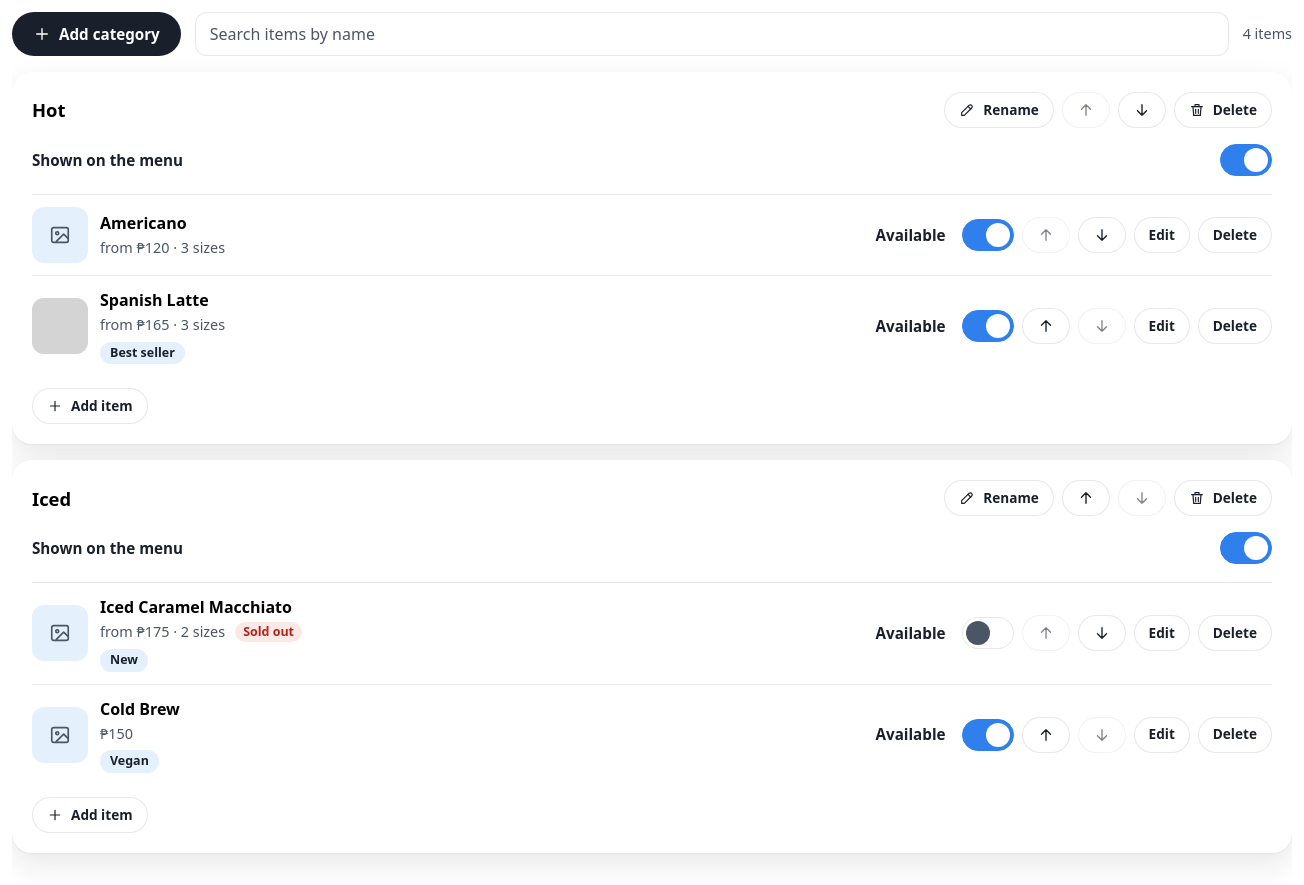
Scenario: ItemsTab changes a category › refuses the name of another category and keeps the form open
Step 1. Click the button with aria-label "Rename Hot" → (999, 110), box [944,92,1054,128]
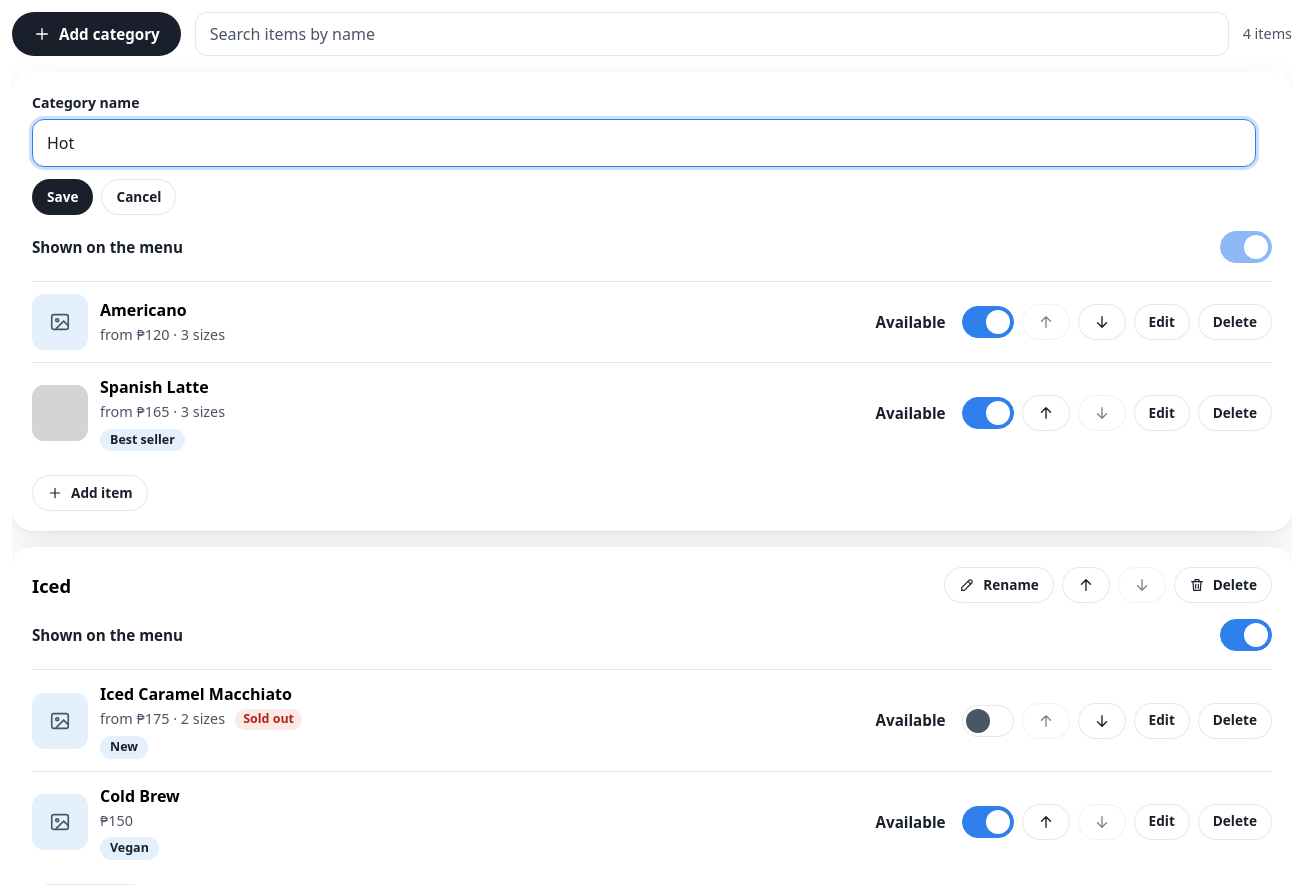
Step 2. Replace the text in the field labelled "Category name" with "Iced" → (644, 143), box [32,119,1256,167]
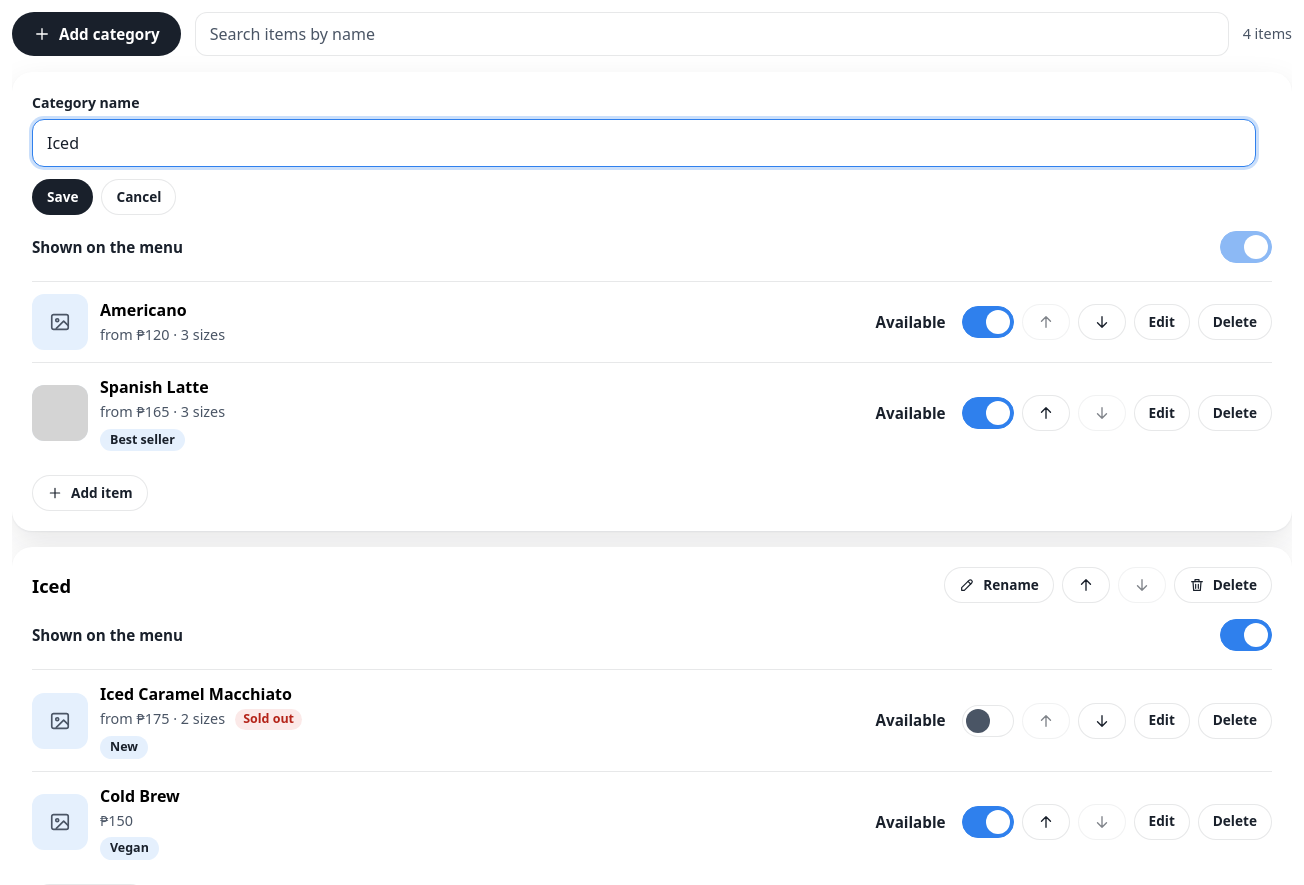
Step 3. Click the button "Save" → (63, 197), box [32,179,94,215]
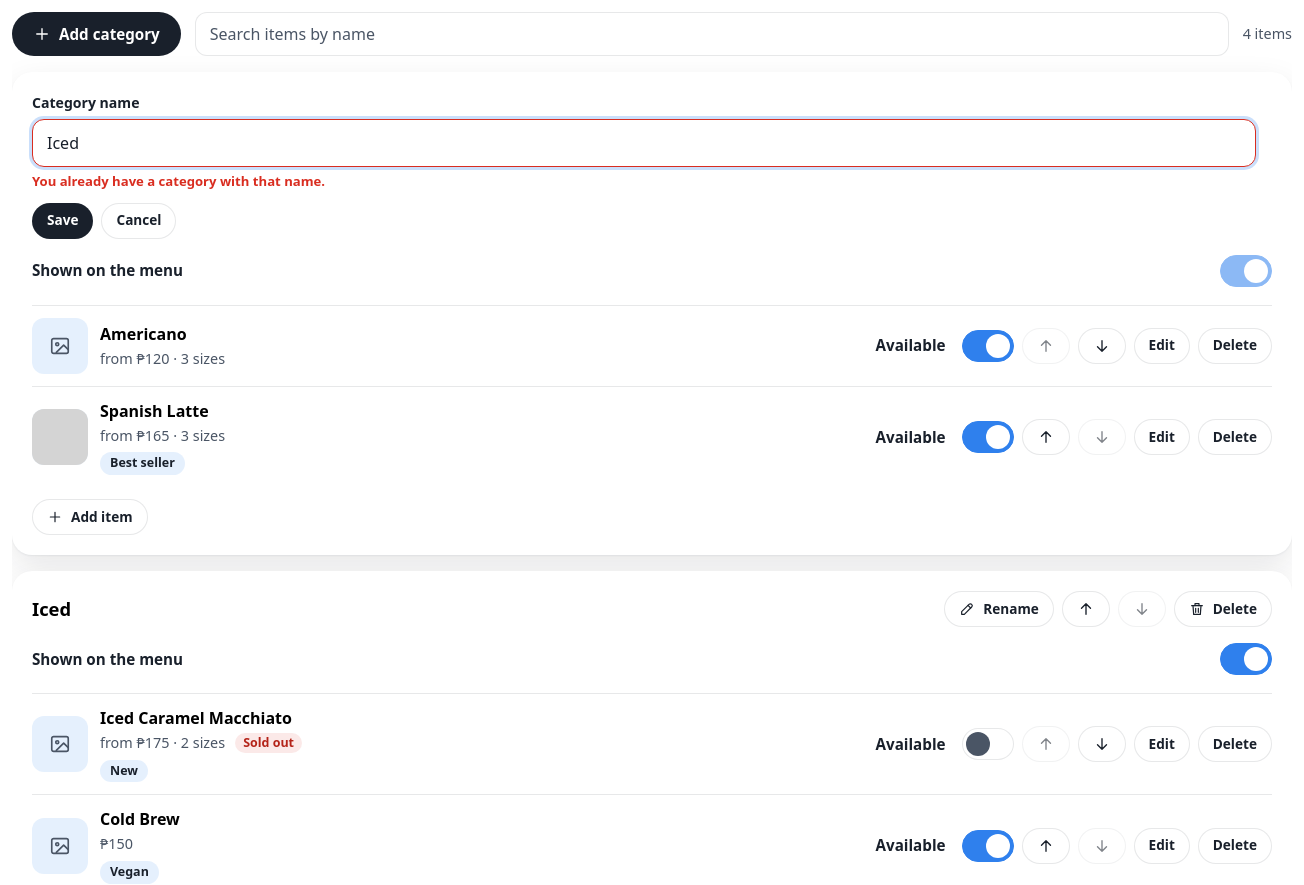
Expected: the text "You already have a category with that name." is shown, [32,172,325,190]
